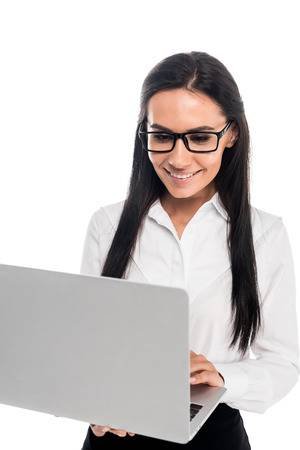F_shirt: (80, 189, 296, 421)
